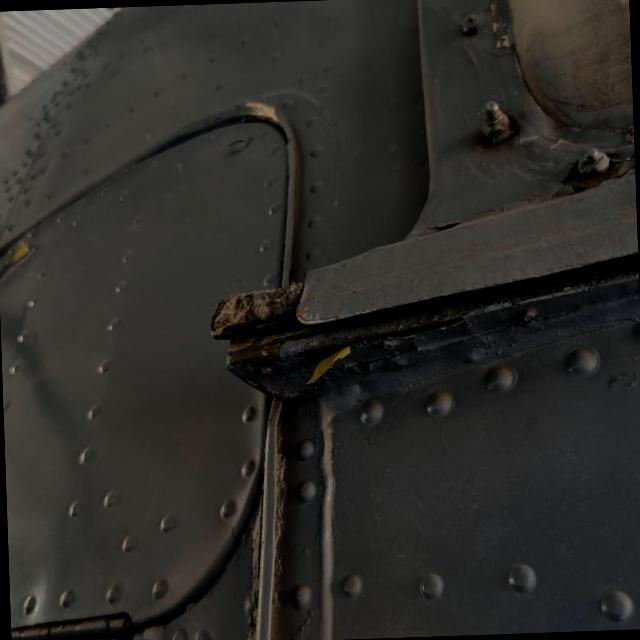paint-off: (289, 331, 362, 394)
